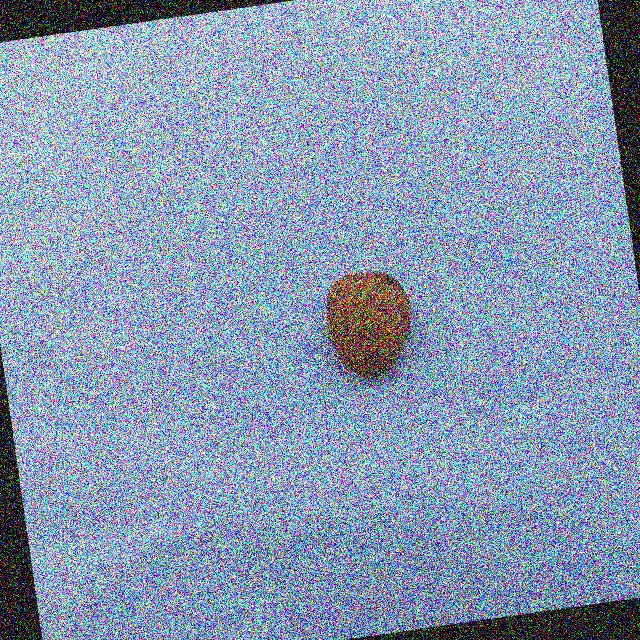grade1: (310, 258, 428, 393)
